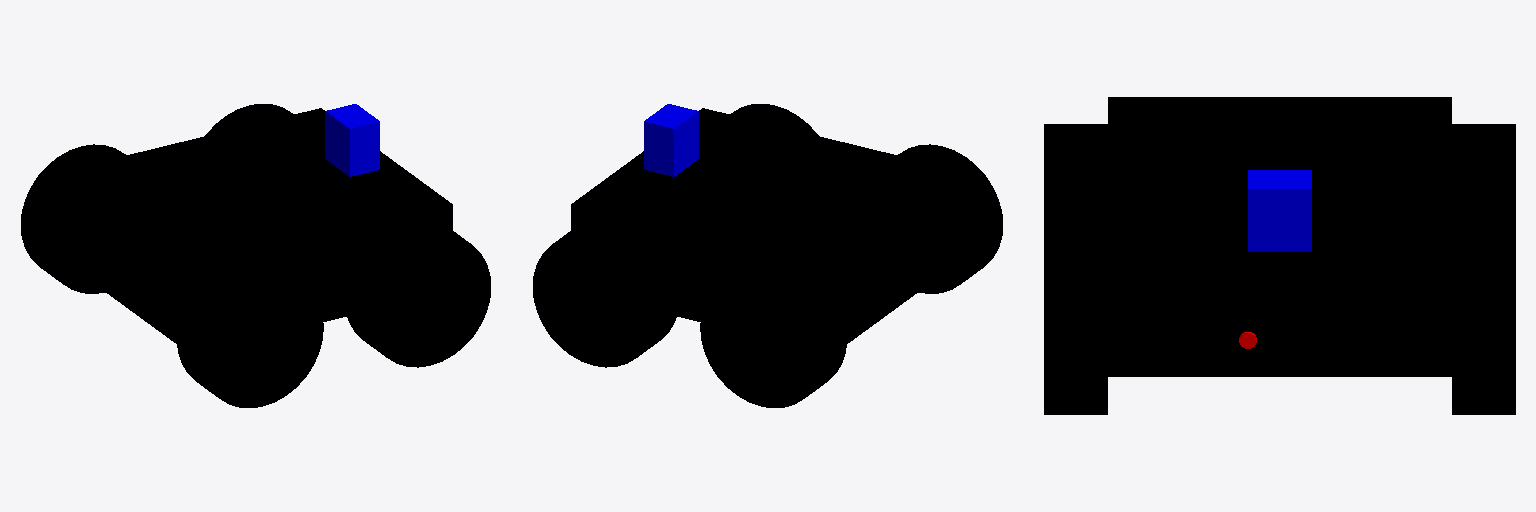
URDF robot description (jaguar_robot):
<?xml version="1.0" ?>
<robot name="jaguar_robot" xmlns:xacro="http://ros.org/wiki/xacro">
  <!-- Included URDF/XACRO Files -->
  <!-- Wheel Properties -->
  <!-- TODO -->
  <!-- TODO -->
  <!-- Base Size -->
  <!-- TODO -->
  <!-- TODO -->
  <!-- Wheel Mounting Positions -->
  <!-- TODO -->
  <!-- Laser Position -->
  <!-- TODO -->
  <!-- TODO -->
  <!-- Laser Size -->
  <!-- TODO -->
  <!-- TODO -->
  <!-- TODO -->
  <!-- Camera Position -->
  <!-- TODO -->
  <!-- TODO -->
  <!-- TODO -->
  <!-- Laser Size -->
  <!-- TODO -->
  <!-- TODO -->
  <!-- Base link is the center of the robot's bottom plate -->
  <link name="base_link">
    <visual>
      <origin rpy="0 0 0" xyz="0 0 0.18"/>
      <geometry>
        <box size="0.555 0.483 0.175"/>
      </geometry>
      <material name="black">
        <color rgba="0 0 0 0.8"/>
      </material>
    </visual>
    <collision>
      <origin rpy="0 0 0" xyz="0 0 0.18"/>
      <!-- TODO -->
      <geometry>
        <box size="0.555 0.483 0.175"/>
        <!-- TODO -->
      </geometry>
    </collision>
  </link>
  <!-- Interial link stores the robot's inertial information -->
  <link name="inertial_link">
    <inertial>
      <mass value="33.455"/>
      <!-- TODO -->
      <origin xyz="-0.08748 -0.00085 0.09947"/>
      <!-- TODO -->
      <inertia ixx="0.6022" ixy="-0.02364" ixz="-0.1197" iyy="1.7386" iyz="-0.001544" izz="2.0296"/>
      <!-- TODO -->
    </inertial>
  </link>
  <joint name="inertial_joint" type="fixed">
    <origin rpy="0 0 0" xyz="0 0 0"/>
    <parent link="base_link"/>
    <child link="inertial_link"/>
  </joint>
  <!-- IMU Link's exact position is unnecessary thus placed at the center of the platform.-->
  <link name="imu_link"/>
  <joint name="imu_joint" type="fixed">
    <origin rpy="0 0 0" xyz="0 0 0.175"/>
    <!-- TODO -->
    <parent link="base_link"/>
    <child link="imu_link"/>
  </joint>
  <!-- Jaguar wheel macros -->
  <link name="front_left_wheel_link">
    <inertial>
      <mass value="2.637"/>
      <!-- TODO -->
      <origin xyz="0 0 0"/>
      <inertia ixx="0.02467" ixy="0" ixz="0" iyy="0.02467" iyz="0" izz="0.04411"/>
      <!-- TODO -->
    </inertial>
    <visual>
      <origin rpy="1.570795 0 0" xyz="0 0 0"/>
      <geometry>
        <cylinder length="0.09" radius="0.13"/>
      </geometry>
      <material name="black"/>
    </visual>
    <collision>
      <origin rpy="1.570795 0 0" xyz="0 0 0"/>
      <geometry>
        <cylinder length="0.09" radius="0.13"/>
      </geometry>
    </collision>
  </link>
  <joint name="front_left_wheel" type="continuous">
    <parent link="base_link"/>
    <child link="front_left_wheel_link"/>
    <origin rpy="0 0 0" xyz="0.1775 0.2865 0.13"/>
    <axis rpy="0 0 0" xyz="0 1 0"/>
  </joint>
  <transmission name="front_left_wheel_trans" type="SimpleTransmission">
    <type>transmission_interface/SimpleTransmission</type>
    <actuator name="front_left_wheel_motor">
      <mechanicalReduction>1</mechanicalReduction>
    </actuator>
    <joint name="front_left_wheel">
      <hardwareInterface>VelocityJointInterface</hardwareInterface>
    </joint>
  </transmission>
  <link name="front_right_wheel_link">
    <inertial>
      <mass value="2.637"/>
      <!-- TODO -->
      <origin xyz="0 0 0"/>
      <inertia ixx="0.02467" ixy="0" ixz="0" iyy="0.02467" iyz="0" izz="0.04411"/>
      <!-- TODO -->
    </inertial>
    <visual>
      <origin rpy="1.570795 0 0" xyz="0 0 0"/>
      <geometry>
        <cylinder length="0.09" radius="0.13"/>
      </geometry>
      <material name="black"/>
    </visual>
    <collision>
      <origin rpy="1.570795 0 0" xyz="0 0 0"/>
      <geometry>
        <cylinder length="0.09" radius="0.13"/>
      </geometry>
    </collision>
  </link>
  <joint name="front_right_wheel" type="continuous">
    <parent link="base_link"/>
    <child link="front_right_wheel_link"/>
    <origin rpy="0 0 3.14159" xyz="0.1775 -0.2865 0.13"/>
    <axis rpy="0 0 0" xyz="0 1 0"/>
  </joint>
  <transmission name="front_right_wheel_trans" type="SimpleTransmission">
    <type>transmission_interface/SimpleTransmission</type>
    <actuator name="front_right_wheel_motor">
      <mechanicalReduction>1</mechanicalReduction>
    </actuator>
    <joint name="front_right_wheel">
      <hardwareInterface>VelocityJointInterface</hardwareInterface>
    </joint>
  </transmission>
  <link name="rear_left_wheel_link">
    <inertial>
      <mass value="2.637"/>
      <!-- TODO -->
      <origin xyz="0 0 0"/>
      <inertia ixx="0.02467" ixy="0" ixz="0" iyy="0.02467" iyz="0" izz="0.04411"/>
      <!-- TODO -->
    </inertial>
    <visual>
      <origin rpy="1.570795 0 0" xyz="0 0 0"/>
      <geometry>
        <cylinder length="0.09" radius="0.13"/>
      </geometry>
      <material name="black"/>
    </visual>
    <collision>
      <origin rpy="1.570795 0 0" xyz="0 0 0"/>
      <geometry>
        <cylinder length="0.09" radius="0.13"/>
      </geometry>
    </collision>
  </link>
  <joint name="rear_left_wheel" type="continuous">
    <parent link="base_link"/>
    <child link="rear_left_wheel_link"/>
    <origin rpy="0 0 0" xyz="-0.1775 0.2865 0.13"/>
    <axis rpy="0 0 0" xyz="0 1 0"/>
  </joint>
  <transmission name="rear_left_wheel_trans" type="SimpleTransmission">
    <type>transmission_interface/SimpleTransmission</type>
    <actuator name="rear_left_wheel_motor">
      <mechanicalReduction>1</mechanicalReduction>
    </actuator>
    <joint name="rear_left_wheel">
      <hardwareInterface>VelocityJointInterface</hardwareInterface>
    </joint>
  </transmission>
  <link name="rear_right_wheel_link">
    <inertial>
      <mass value="2.637"/>
      <!-- TODO -->
      <origin xyz="0 0 0"/>
      <inertia ixx="0.02467" ixy="0" ixz="0" iyy="0.02467" iyz="0" izz="0.04411"/>
      <!-- TODO -->
    </inertial>
    <visual>
      <origin rpy="1.570795 0 0" xyz="0 0 0"/>
      <geometry>
        <cylinder length="0.09" radius="0.13"/>
      </geometry>
      <material name="black"/>
    </visual>
    <collision>
      <origin rpy="1.570795 0 0" xyz="0 0 0"/>
      <geometry>
        <cylinder length="0.09" radius="0.13"/>
      </geometry>
    </collision>
  </link>
  <joint name="rear_right_wheel" type="continuous">
    <parent link="base_link"/>
    <child link="rear_right_wheel_link"/>
    <origin rpy="0 0 3.14159" xyz="-0.1775 -0.2865 0.13"/>
    <axis rpy="0 0 0" xyz="0 1 0"/>
  </joint>
  <transmission name="rear_right_wheel_trans" type="SimpleTransmission">
    <type>transmission_interface/SimpleTransmission</type>
    <actuator name="rear_right_wheel_motor">
      <mechanicalReduction>1</mechanicalReduction>
    </actuator>
    <joint name="rear_right_wheel">
      <hardwareInterface>VelocityJointInterface</hardwareInterface>
    </joint>
  </transmission>
  <!-- Laser -->
  <joint name="laser_joint" type="fixed">
    <origin rpy="0 0 0" xyz="0.205 0 0.315"/>
    <parent link="base_link"/>
    <child link="laser_link"/>
  </joint>
  <link name="laser_link">
    <visual>
      <origin rpy="0 0 0" xyz="0 0 0"/>
      <geometry>
        <box size="0.065 0.09 0.1"/>
      </geometry>
      <material name="blue">
        <color rgba="0 0 255 0.8"/>
      </material>
    </visual>
    <collision>
      <origin rpy="0 0 0" xyz="0 0 0"/>
      <geometry>
        <box size="0.065 0.09 0.1"/>
      </geometry>
    </collision>
  </link>
  <!-- Camera -->
  <joint name="camera_joint" type="fixed">
    <origin rpy="0 0 0" xyz="0.2775 -0.045 0.15"/>
    <parent link="base_link"/>
    <child link="camera_link"/>
  </joint>
  <link name="camera_link">
    <visual>
      <origin rpy="0 1.570795 0" xyz="0 0 0"/>
      <geometry>
        <cylinder length="0.01" radius="0.0125"/>
      </geometry>
      <material name="red">
        <color rgba="255 0 0 1"/>
      </material>
    </visual>
    <collision>
      <origin rpy="0 1.570795 0" xyz="0 0 0"/>
      <geometry>
        <cylinder length="0.1" radius="0.0125"/>
      </geometry>
    </collision>
  </link>
  <!-- GPS -->
  <joint name="gps_joint" type="fixed">
    <origin rpy="0 0 0" xyz="0 0 0.175"/>
    <parent link="base_link"/>
    <child link="gps_link"/>
  </joint>
  <link name="gps_link"/>
</robot>

--- What the picture shows (computed from the rendered views, not written in the file) ---
The picture shows the robot from 3 angles, left to right: view 1: azimuth 30°, elevation 25°; view 2: azimuth 150°, elevation 25°; view 3: azimuth 270°, elevation 25°; orthographic projection.
Robot: jaguar_robot — 10 links, 9 joints (4 continuous, 5 fixed); root link base_link; default pose: all joints at 0.
Links seen in each view (by area): view 1: base_link, rear_right_wheel_link, front_right_wheel_link, rear_left_wheel_link, laser_link, front_left_wheel_link; view 2: base_link, rear_left_wheel_link, front_left_wheel_link, rear_right_wheel_link, laser_link, front_right_wheel_link; view 3: base_link, front_left_wheel_link, front_right_wheel_link, rear_left_wheel_link, rear_right_wheel_link, laser_link.
Boxes of the visible links, box(x1,y1,x2,y2) form: base_link: box(59, 108, 452, 343); rear_right_wheel_link: box(177, 259, 323, 407); front_right_wheel_link: box(344, 218, 490, 367); rear_left_wheel_link: box(21, 144, 125, 293); laser_link: box(325, 104, 379, 176); front_left_wheel_link: box(205, 104, 293, 135); base_link: box(571, 108, 964, 343); rear_left_wheel_link: box(700, 259, 846, 407); front_left_wheel_link: box(533, 218, 679, 367); rear_right_wheel_link: box(898, 144, 1002, 293); laser_link: box(644, 104, 698, 176); front_right_wheel_link: box(730, 104, 818, 135); base_link: box(1108, 97, 1451, 376); front_left_wheel_link: box(1452, 230, 1515, 414); front_right_wheel_link: box(1044, 230, 1107, 414); rear_left_wheel_link: box(1452, 124, 1515, 229); rear_right_wheel_link: box(1044, 124, 1107, 229); laser_link: box(1248, 170, 1311, 251).
Bounding box of the posed robot: 0.615 × 0.663 × 0.365 m (x, y, z).
Geometry: primitives only (box / cylinder / sphere), no mesh files.